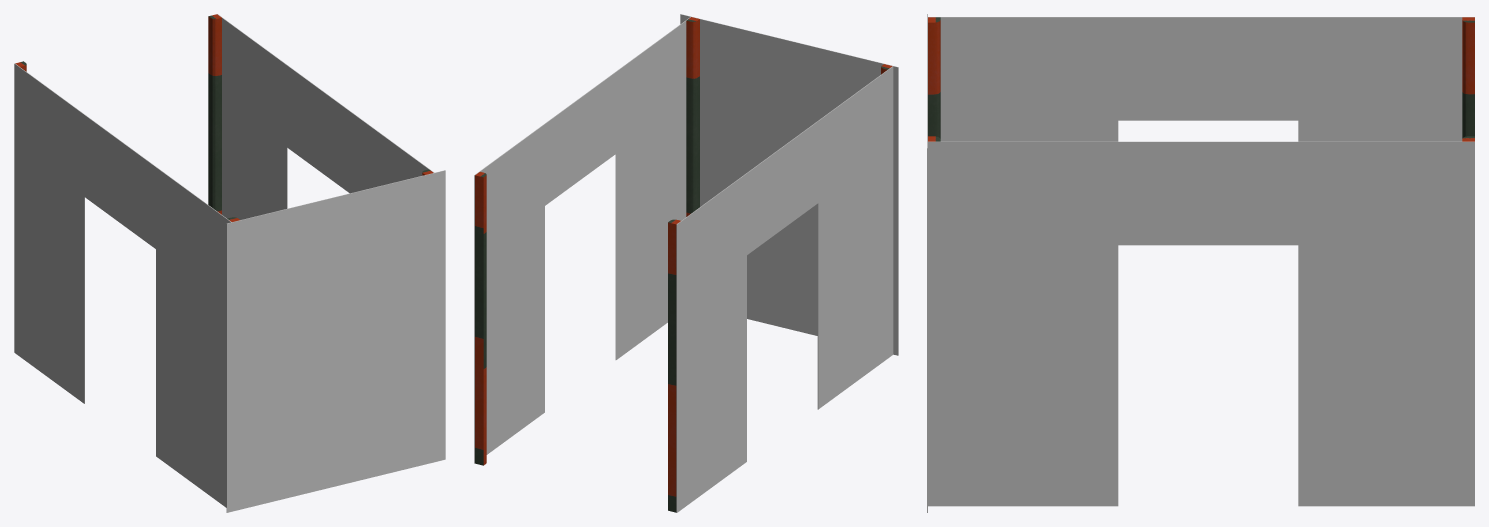
Rendered from livingroom_hallway.fbx.
3 views of the same model, side by side, from view 1: azimuth 30°, elevation 25°; view 2: azimuth 150°, elevation 25°; view 3: azimuth 270°, elevation 25° (orthographic). The views are drawn at different scales.
Parts seen in each view (by area): view 1: polySurface277; view 2: polySurface277; view 3: polySurface277.
Part boxes in pixels (x1,y1,x2,y2): polySurface277: [14, 14, 445, 512]; polySurface277: [474, 14, 898, 512]; polySurface277: [927, 14, 1474, 512].
Bounding box in the file's own units: 2.38 × 3.01 × 4.1.
